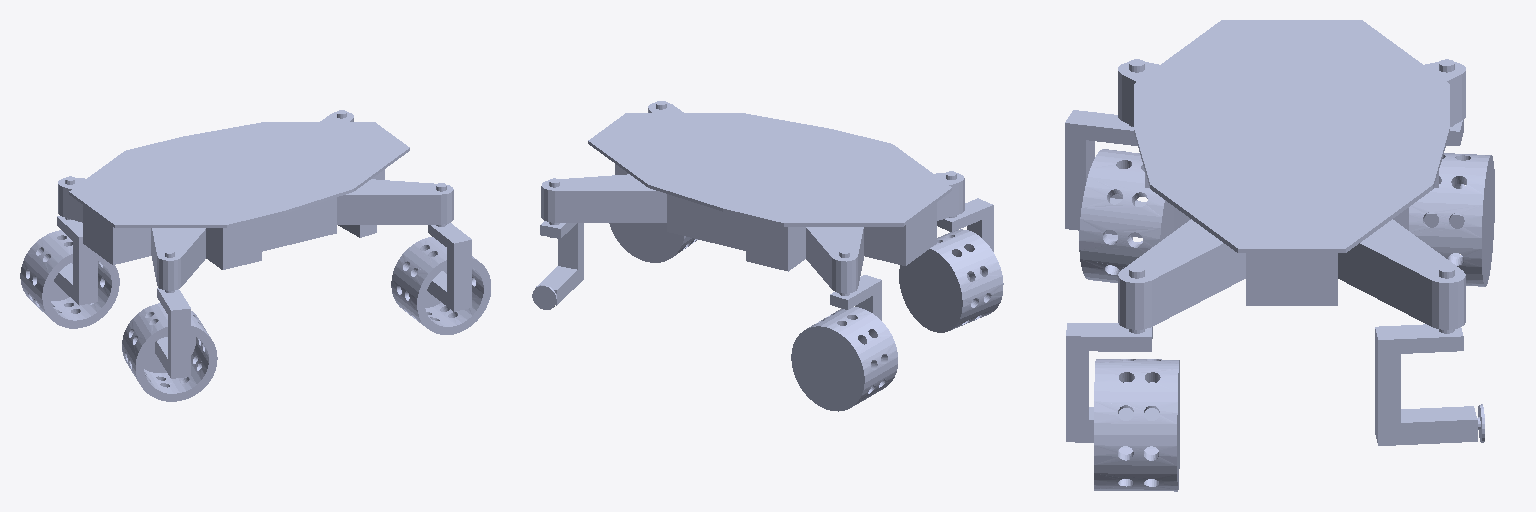
The robot description file, URDF, robot "owr_numbat_tf":
<robot
  name="owr_numbat_tf">
  <link
    name="base_link">
    <inertial>
      <origin
        xyz="0.199001521355698 0.401976534326884 0.644578776800536"
        rpy="0 0 0" />
      <mass
        value="33.4975943636999" />
      <inertia
        ixx="0.0125052741751253"
        ixy="0.00142309072234029"
        ixz="0.00557644568946697"
        iyy="0.0456048995470643"
        iyz="0.000645084117129033"
        izz="0.0337193883299707" />
    </inertial>
    <visual>
      <origin
        xyz="0 0 0"
        rpy="0 0 0" />
      <geometry>
        <mesh
          filename="package://owr_numbat_tf/meshes/base_link.STL" />
      </geometry>
      <material
        name="">
        <color
          rgba="0.792156862745098 0.819607843137255 0.933333333333333 1" />
      </material>
    </visual>
    <collision>
      <origin
        xyz="0 0 0"
        rpy="0 0 0" />
      <geometry>
        <mesh
          filename="package://owr_numbat_tf/meshes/base_link.STL" />
      </geometry>
    </collision>
  </link>
  <link
    name="Front Left Axle">
    <inertial>
      <origin
        xyz="-0.0517688079644882 0.0887190484893181 2.22044604925031E-16"
        rpy="0 0 0" />
      <mass
        value="0.674113164049984" />
      <inertia
        ixx="0"
        ixy="0"
        ixz="0"
        iyy="0"
        iyz="0"
        izz="0" />
    </inertial>
    <visual>
      <origin
        xyz="0 0 0"
        rpy="0 0 0" />
      <geometry>
        <mesh
          filename="package://owr_numbat_tf/meshes/Front Left Axle.STL" />
      </geometry>
      <material
        name="">
        <color
          rgba="0.792156862745098 0.819607843137255 0.933333333333333 1" />
      </material>
    </visual>
    <collision>
      <origin
        xyz="0 0 0"
        rpy="0 0 0" />
      <geometry>
        <mesh
          filename="package://owr_numbat_tf/meshes/Front Left Axle.STL" />
      </geometry>
    </collision>
  </link>
  <joint
    name="Front Left Steer"
    type="continuous">
    <origin
      xyz="0.62684 -0.40335 0.13495"
      rpy="1.5708 6.088E-17 1.6778" />
    <parent
      link="base_link" />
    <child
      link="Front Left Axle" />
    <axis
      xyz="0 1 0" />
  </joint>
  <link
    name="Front Left wheel">
    <inertial>
      <origin
        xyz="6.06240746492404E-09 -2.77011136112781E-07 -0.00589838982095087"
        rpy="0 0 0" />
      <mass
        value="1.5442893046468" />
      <inertia
        ixx="0"
        ixy="0"
        ixz="0"
        iyy="0"
        iyz="0"
        izz="0" />
    </inertial>
    <visual>
      <origin
        xyz="0 0 0"
        rpy="0 0 0" />
      <geometry>
        <mesh
          filename="package://owr_numbat_tf/meshes/Front Left wheel.STL" />
      </geometry>
      <material
        name="">
        <color
          rgba="0.792156862745098 0.819607843137255 0.933333333333333 1" />
      </material>
    </visual>
    <collision>
      <origin
        xyz="0 0 0"
        rpy="0 0 0" />
      <geometry>
        <mesh
          filename="package://owr_numbat_tf/meshes/Front Left wheel.STL" />
      </geometry>
    </collision>
  </link>
  <joint
    name="Front Left rotate"
    type="continuous">
    <origin
      xyz="0 0.03 0"
      rpy="-1.5708 -0.91526 1.5708" />
    <parent
      link="Front Left Axle" />
    <child
      link="Front Left wheel" />
    <axis
      xyz="0 0 1" />
  </joint>
  <link
    name="Back Left Axle">
    <inertial>
      <origin
        xyz="-0.0517688079644883 0.0887190484893179 -4.16333634234434E-17"
        rpy="0 0 0" />
      <mass
        value="0.674113164049983" />
      <inertia
        ixx="0"
        ixy="0"
        ixz="0"
        iyy="0"
        iyz="0"
        izz="0" />
    </inertial>
    <visual>
      <origin
        xyz="0 0 0"
        rpy="0 0 0" />
      <geometry>
        <mesh
          filename="package://owr_numbat_tf/meshes/Back Left Axle.STL" />
      </geometry>
      <material
        name="">
        <color
          rgba="0.792156862745098 0.819607843137255 0.933333333333333 1" />
      </material>
    </visual>
    <collision>
      <origin
        xyz="0 0 0"
        rpy="0 0 0" />
      <geometry>
        <mesh
          filename="package://owr_numbat_tf/meshes/Back Left Axle.STL" />
      </geometry>
    </collision>
  </link>
  <joint
    name="Back Left Steer"
    type="continuous">
    <origin
      xyz="-0.13031 -0.40335 0.13495"
      rpy="1.5708 6.0901E-17 1.4671" />
    <parent
      link="base_link" />
    <child
      link="Back Left Axle" />
    <axis
      xyz="0 1 0" />
  </joint>
  <link
    name="Back Left Wheel">
    <inertial>
      <origin
        xyz="6.06240754819076E-09 -2.77011136001759E-07 -0.00589838982095175"
        rpy="0 0 0" />
      <mass
        value="1.5442893046468" />
      <inertia
        ixx="0"
        ixy="0"
        ixz="0"
        iyy="0"
        iyz="0"
        izz="0" />
    </inertial>
    <visual>
      <origin
        xyz="0 0 0"
        rpy="0 0 0" />
      <geometry>
        <mesh
          filename="package://owr_numbat_tf/meshes/Back Left Wheel.STL" />
      </geometry>
      <material
        name="">
        <color
          rgba="0.792156862745098 0.819607843137255 0.933333333333333 1" />
      </material>
    </visual>
    <collision>
      <origin
        xyz="0 0 0"
        rpy="0 0 0" />
      <geometry>
        <mesh
          filename="package://owr_numbat_tf/meshes/Back Left Wheel.STL" />
      </geometry>
    </collision>
  </link>
  <joint
    name="Back Left Rotate"
    type="continuous">
    <origin
      xyz="0 0.0300000000000001 0"
      rpy="1.57079632679489 0.214040970418392 -1.5707963267949" />
    <parent
      link="Back Left Axle" />
    <child
      link="Back Left Wheel" />
    <axis
      xyz="0 0 1" />
  </joint>
  <link
    name="Back Right Axle">
    <inertial>
      <origin
        xyz="-0.0517688079644882 0.088719048489318 -5.55111512312578E-17"
        rpy="0 0 0" />
      <mass
        value="0.674113164049983" />
      <inertia
        ixx="0"
        ixy="0"
        ixz="0"
        iyy="0"
        iyz="0"
        izz="0" />
    </inertial>
    <visual>
      <origin
        xyz="0 0 0"
        rpy="0 0 0" />
      <geometry>
        <mesh
          filename="package://owr_numbat_tf/meshes/Back Right Axle.STL" />
      </geometry>
      <material
        name="">
        <color
          rgba="0.792156862745098 0.819607843137255 0.933333333333333 1" />
      </material>
    </visual>
    <collision>
      <origin
        xyz="0 0 0"
        rpy="0 0 0" />
      <geometry>
        <mesh
          filename="package://owr_numbat_tf/meshes/Back Right Axle.STL" />
      </geometry>
    </collision>
  </link>
  <joint
    name="Back Right Steer"
    type="continuous">
    <origin
      xyz="-0.13031 -0.88449 0.13495"
      rpy="1.5708 5.9043E-17 1.3027" />
    <parent
      link="base_link" />
    <child
      link="Back Right Axle" />
    <axis
      xyz="0 1 0" />
  </joint>
  <link
    name="Back Right Wheel">
    <inertial>
      <origin
        xyz="6.06240740941288E-09 -2.77011135974004E-07 -0.00589838982095114"
        rpy="0 0 0" />
      <mass
        value="1.54428930464679" />
      <inertia
        ixx="0"
        ixy="0"
        ixz="0"
        iyy="0"
        iyz="0"
        izz="0" />
    </inertial>
    <visual>
      <origin
        xyz="0 0 0"
        rpy="0 0 0" />
      <geometry>
        <mesh
          filename="package://owr_numbat_tf/meshes/Back Right Wheel.STL" />
      </geometry>
      <material
        name="">
        <color
          rgba="0.792156862745098 0.819607843137255 0.933333333333333 1" />
      </material>
    </visual>
    <collision>
      <origin
        xyz="0 0 0"
        rpy="0 0 0" />
      <geometry>
        <mesh
          filename="package://owr_numbat_tf/meshes/Back Right Wheel.STL" />
      </geometry>
    </collision>
  </link>
  <joint
    name="Back RIght Rotate"
    type="continuous">
    <origin
      xyz="0 0.0299999999999999 0"
      rpy="-1.57079632679491 -1.13219561486008 1.57079632679491" />
    <parent
      link="Back Right Axle" />
    <child
      link="Back Right Wheel" />
    <axis
      xyz="0 0 1" />
  </joint>
  <link
    name="Front Right Axle">
    <inertial>
      <origin
        xyz="-0.0517688079644884 0.088719048489318 -2.22044604925031E-16"
        rpy="0 0 0" />
      <mass
        value="0.674113164049983" />
      <inertia
        ixx="0"
        ixy="0"
        ixz="0"
        iyy="0"
        iyz="0"
        izz="0" />
    </inertial>
    <visual>
      <origin
        xyz="0 0 0"
        rpy="0 0 0" />
      <geometry>
        <mesh
          filename="package://owr_numbat_tf/meshes/Front Right Axle.STL" />
      </geometry>
      <material
        name="">
        <color
          rgba="0.792156862745098 0.819607843137255 0.933333333333333 1" />
      </material>
    </visual>
    <collision>
      <origin
        xyz="0 0 0"
        rpy="0 0 0" />
      <geometry>
        <mesh
          filename="package://owr_numbat_tf/meshes/Front Right Axle.STL" />
      </geometry>
    </collision>
  </link>
  <joint
    name="Front Right Steer"
    type="continuous">
    <origin
      xyz="0.626839262679528 -0.884494656994069 0.13494946923044"
      rpy="1.5707963267949 6.12114355045412E-17 1.54596104769157" />
    <parent
      link="base_link" />
    <child
      link="Front Right Axle" />
    <axis
      xyz="0 1 0" />
  </joint>
  <link
    name="Front RIght Wheel">
    <inertial>
      <origin
        xyz="6.10794798072689E-09 -2.76999337467387E-07 -0.00589838982429747"
        rpy="0 0 0" />
      <mass
        value="1.54428930379881" />
      <inertia
        ixx="0"
        ixy="0"
        ixz="0"
        iyy="0"
        iyz="0"
        izz="0" />
    </inertial>
    <visual>
      <origin
        xyz="0 0 0"
        rpy="0 0 0" />
      <geometry>
        <mesh
          filename="package://owr_numbat_tf/meshes/Front RIght Wheel.STL" />
      </geometry>
      <material
        name="">
        <color
          rgba="0.792156862745098 0.819607843137255 0.933333333333333 1" />
      </material>
    </visual>
    <collision>
      <origin
        xyz="0 0 0"
        rpy="0 0 0" />
      <geometry>
        <mesh
          filename="package://owr_numbat_tf/meshes/Front RIght Wheel.STL" />
      </geometry>
    </collision>
  </link>
  <joint
    name="Front Right Rotate"
    type="continuous">
    <origin
      xyz="0 0.0299999999999999 0"
      rpy="-1.5707963267949 -0.00858284690216311 1.57079632679489" />
    <parent
      link="Front Right Axle" />
    <child
      link="Front RIght Wheel" />
    <axis
      xyz="0 0 1" />
  </joint>
</robot>

--- Render facts (derived) ---
Views: 3 orthographic renders of the robot side by side, from view 1: azimuth 30°, elevation 25°; view 2: azimuth 150°, elevation 25°; view 3: azimuth 270°, elevation 25°.
Model owr_numbat_tf with 9 links and 8 joints (8 continuous), rooted at base_link, posed every joint at zero.
Visible links, largest first — view 1: base_link, Front RIght Wheel, Back Right Wheel, Back Left Wheel, Front Right Axle, Back Right Axle, Back Left Axle; view 2: base_link, Back Left Wheel, Back Right Wheel, Front Left Axle, Front RIght Wheel, Back Right Axle, Back Left Axle; view 3: base_link, Front RIght Wheel, Back Right Wheel, Front Left Axle, Back Left Wheel, Front Right Axle, Back Right Axle, Back Left Axle.
Link boxes in pixels (bbox=[...]): base_link: bbox=[58, 110, 453, 292]; Front RIght Wheel: bbox=[391, 237, 490, 334]; Back Right Wheel: bbox=[122, 303, 217, 401]; Back Left Wheel: bbox=[20, 230, 119, 328]; Front Right Axle: bbox=[427, 223, 471, 311]; Back Right Axle: bbox=[152, 288, 190, 378]; Back Left Axle: bbox=[54, 216, 97, 305]; base_link: bbox=[541, 101, 964, 308]; Back Left Wheel: bbox=[791, 307, 897, 411]; Back Right Wheel: bbox=[899, 229, 1003, 332]; Front Left Axle: bbox=[532, 221, 583, 309]; Front RIght Wheel: bbox=[609, 223, 697, 262]; Back Right Axle: bbox=[937, 198, 993, 280]; Back Left Axle: bbox=[830, 275, 881, 342]; base_link: bbox=[1118, 20, 1465, 333]; Front RIght Wheel: bbox=[1094, 359, 1179, 491]; Back Right Wheel: bbox=[1079, 149, 1173, 282]; Front Left Axle: bbox=[1375, 324, 1484, 445]; Back Left Wheel: bbox=[1409, 153, 1494, 286]; Front Right Axle: bbox=[1066, 323, 1159, 442]; Back Right Axle: bbox=[1065, 110, 1146, 237]; Back Left Axle: bbox=[1424, 120, 1464, 228].
Size in the robot's own frame: 0.9769 by 0.6686 by 0.4066 metres.
8 mesh visuals loaded from 9 distinct referenced files (8 binary STL); not drawn: 1 (file found but could not be loaded).